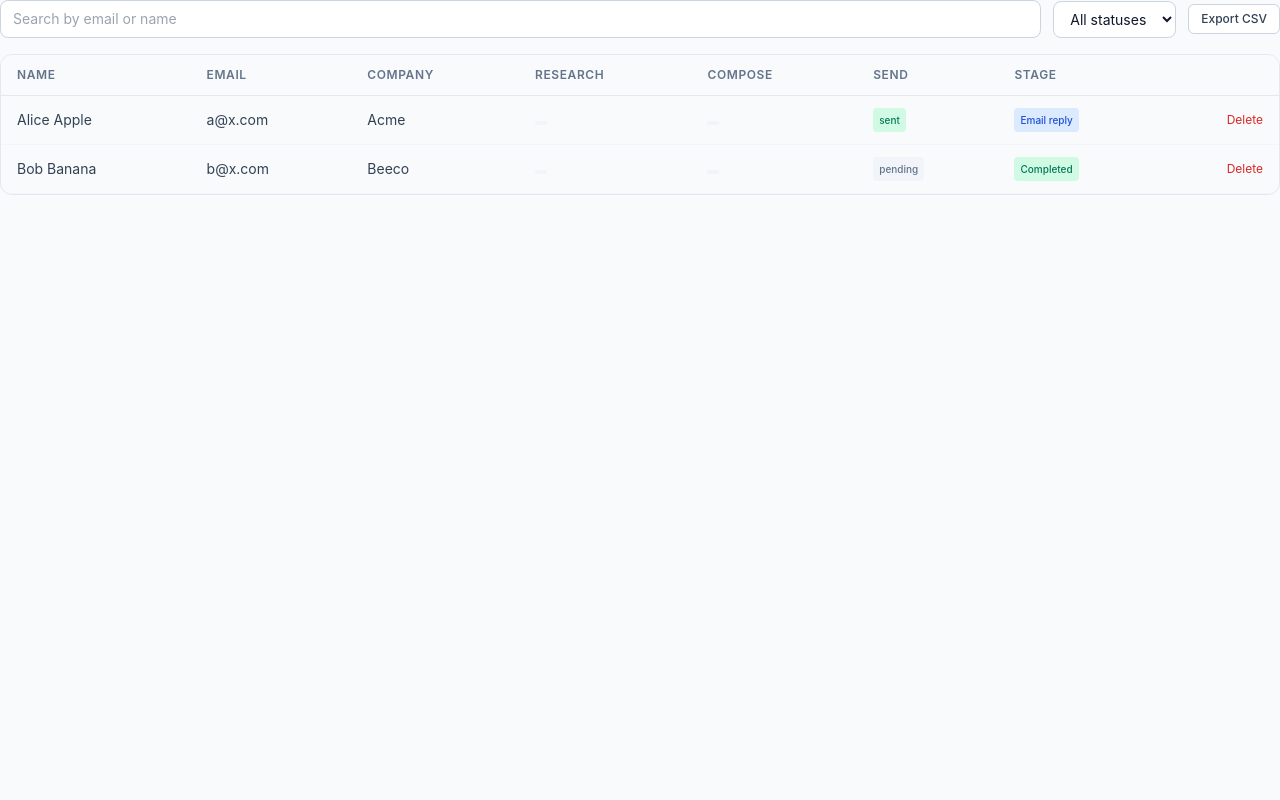
Test: LeadTable › shows backend error detail in the modal when delete fails
Expected: the text "Alice Apple" is shown, 1,96 -> 191,144
Click the button with test id "delete-lead-l1".
click(1245, 120)  # box 1227,112 -> 1263,128
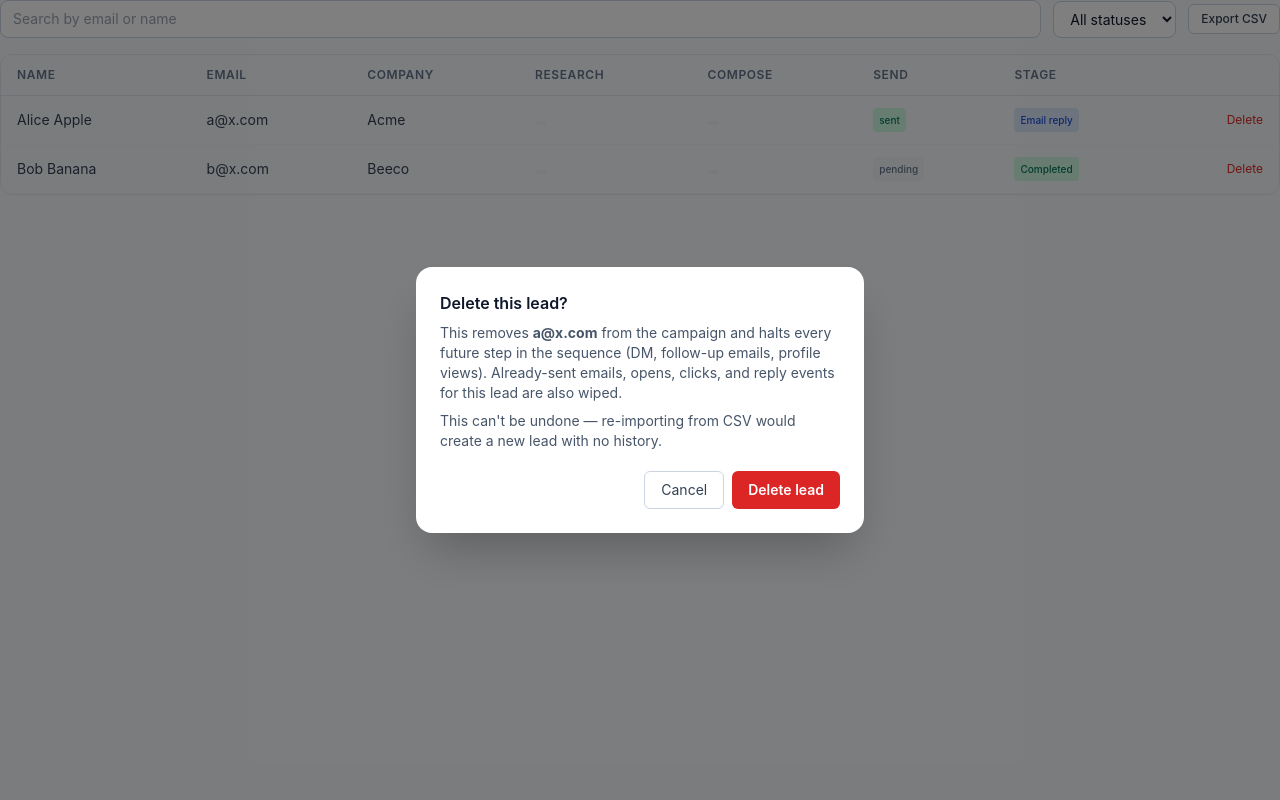
Expected: the element with test id "delete-lead-modal" is shown, 416,267 -> 864,533
Click the button with test id "confirm-delete-lead".
click(786, 490)  # box 732,471 -> 840,509
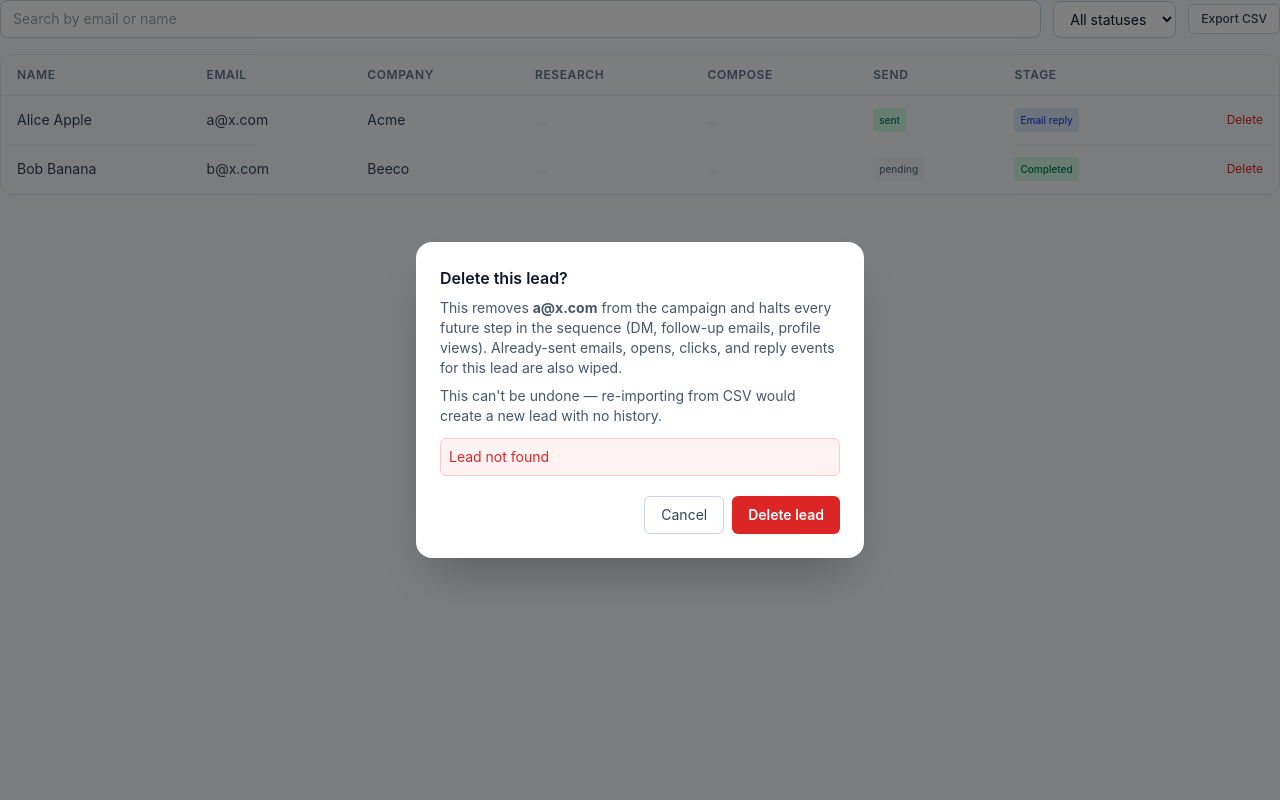
Expected: the text "Lead not found" is shown, 440,438 -> 840,476
